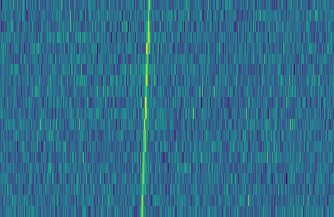signal: (137, 0, 153, 217)
